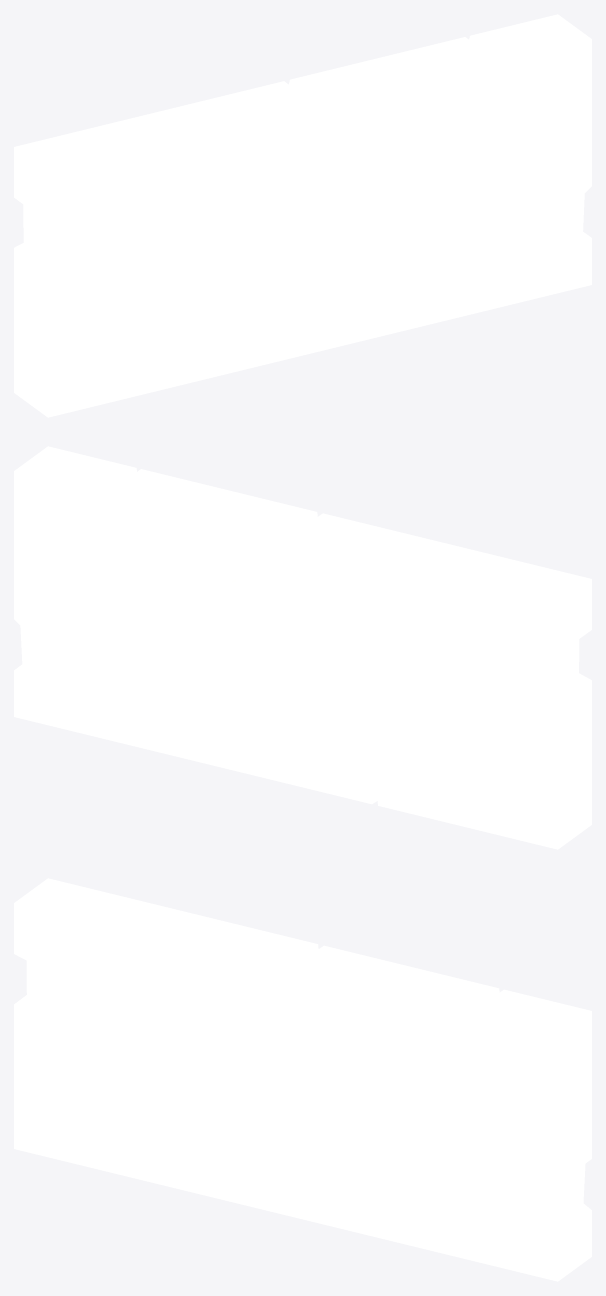
Rendered from polycinderblockwall.glb.
The picture shows the model from 3 angles, top to bottom: view 1: azimuth 30°, elevation 25°; view 2: azimuth 150°, elevation 25°; view 3: azimuth 330°, elevation 25°; orthographic projection.
Parts seen in each view (by area): view 1: PolyCinderblockWall; view 2: PolyCinderblockWall; view 3: PolyCinderblockWall.
Part boxes in pixels (x1=…): PolyCinderblockWall: x1=14, y1=14, x2=591, y2=417; PolyCinderblockWall: x1=14, y1=446, x2=591, y2=849; PolyCinderblockWall: x1=14, y1=878, x2=591, y2=1281.
Bounding box in the file's own units: 2.5 × 1.08 × 0.2711.
Materials: 1 (1 with a texture image).
